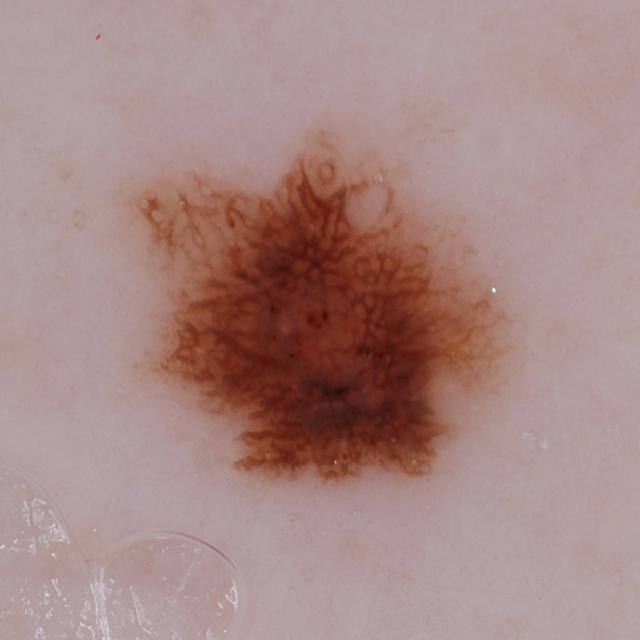Benign: (123, 128, 529, 500)
